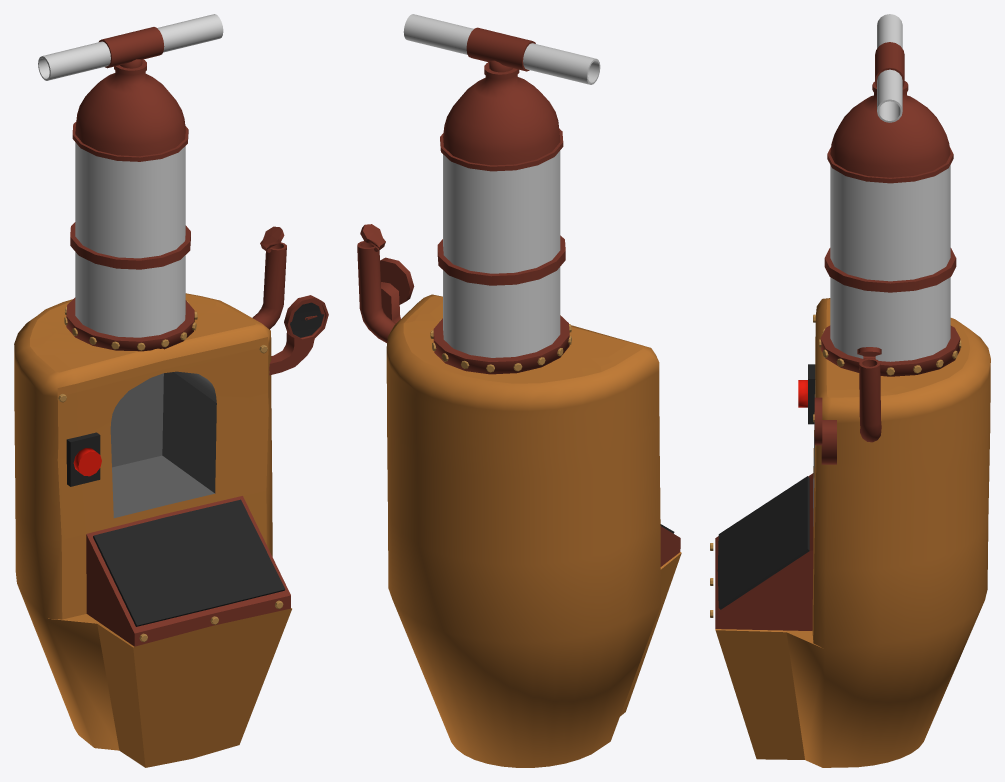
The model's file is Output_Machine.fbx.
3 renders of one model, left to right at view 1: azimuth 30°, elevation 25°; view 2: azimuth 150°, elevation 25°; view 3: azimuth 270°, elevation 25°, orthographic. The views are drawn at different scales.
Visible parts, largest first — view 1: Cylinder.076, Cylinder.075, Cylinder.074, Cylinder.051, Cylinder.048, Cube.005, Cube.004, Cylinder.054; view 2: Cylinder.076, Cylinder.075, Cylinder.074, Cylinder.051, Cylinder.048, Cube.004; view 3: Cylinder.076, Cylinder.075, Cylinder.074, Cylinder.051, Cube.004.
Part boxes in pixels (x1,y1,x2,y2): Cylinder.076: (14, 293, 291, 767); Cylinder.075: (66, 59, 194, 351); Cylinder.074: (38, 14, 223, 80); Cylinder.051: (252, 242, 286, 329); Cylinder.048: (284, 295, 328, 341); Cube.005: (66, 432, 100, 486); Cube.004: (269, 332, 314, 375); Cylinder.054: (73, 448, 101, 476); Cylinder.076: (386, 294, 681, 767); Cylinder.075: (433, 60, 569, 374); Cylinder.074: (403, 14, 600, 84); Cylinder.051: (357, 241, 395, 342); Cylinder.048: (380, 257, 414, 304); Cube.004: (381, 282, 400, 323); Cylinder.076: (715, 298, 990, 767); Cylinder.075: (820, 81, 960, 376); Cylinder.074: (875, 14, 904, 122); Cylinder.051: (859, 358, 881, 442); Cube.004: (821, 420, 836, 464).
Size of the model in its own units: 611 by 1416 by 526.
